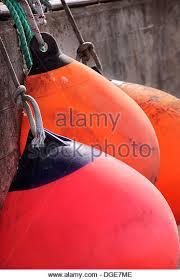buoy: (18, 62, 160, 213)
